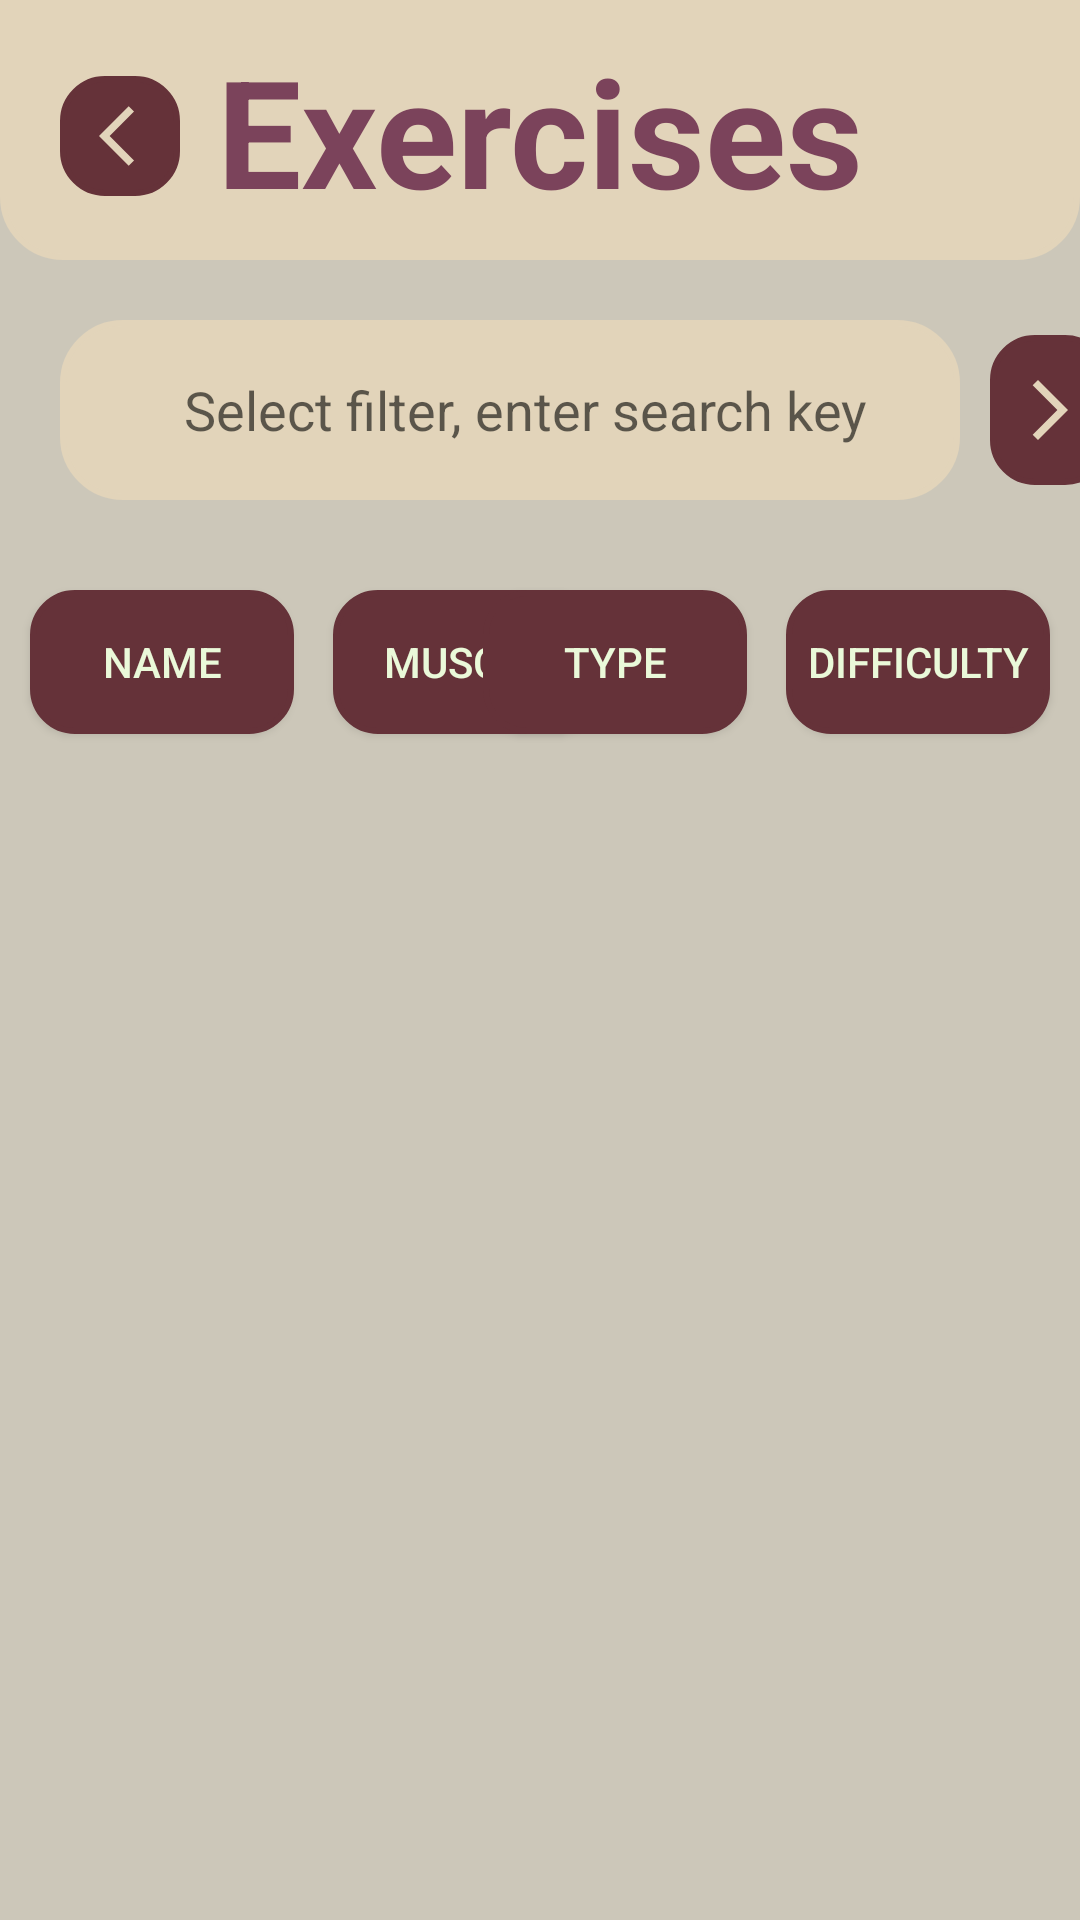

Screen size 1080px x 1920px. Icon name, then its box in pixels as (x1, y1, x2, y2):
back: (60, 76, 180, 196)
